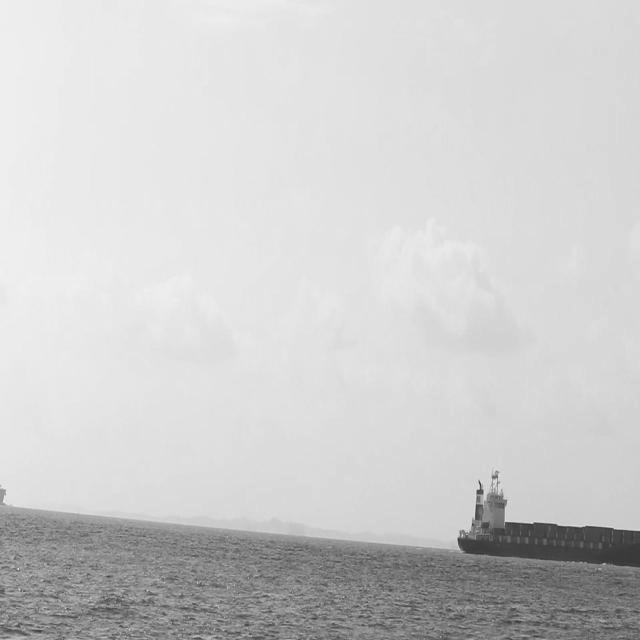ship: (454, 469, 639, 557)
